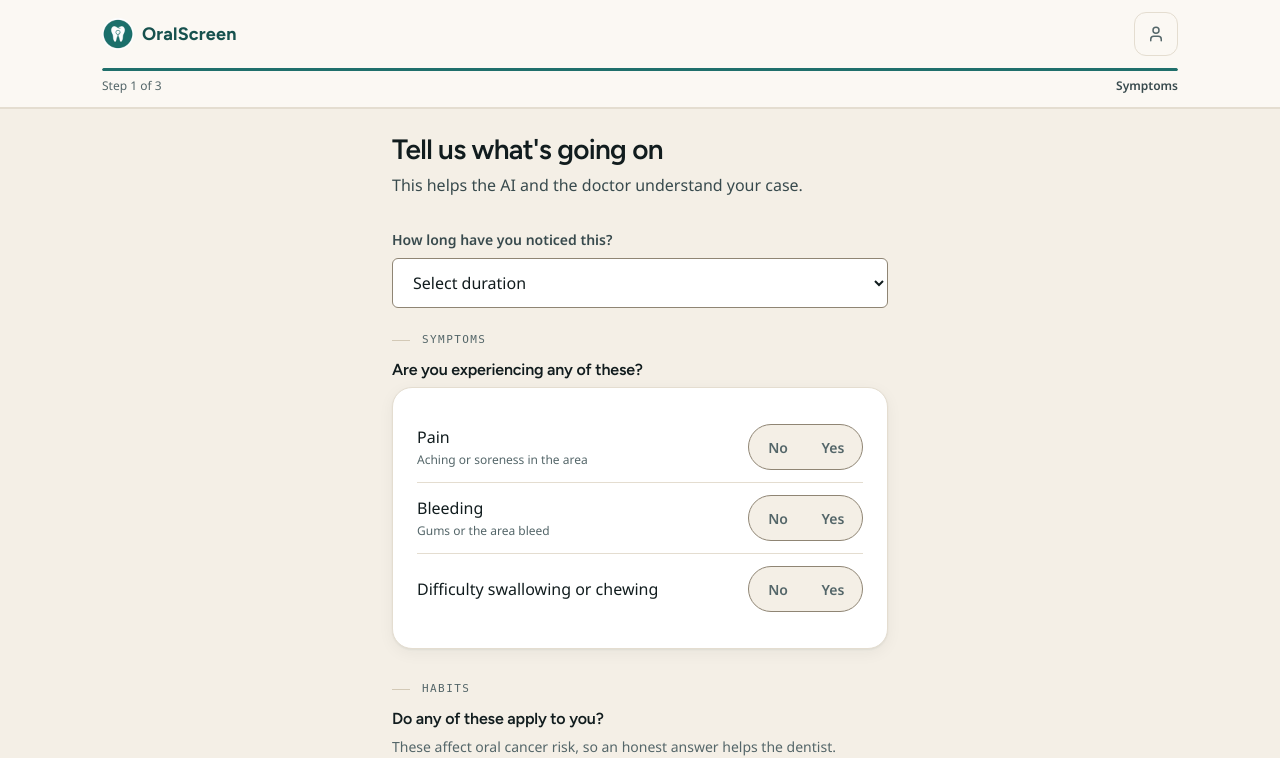
Test: completeness gating › enables submit and drops the requirement note once complete
Step 1. Select "3–5 days" in the dropdown labelled "How long have you noticed this?" → (640, 283), box [392,258,888,308]
Step 2. Click the button "No" in the row of "Aching or soreness in the area" → (778, 447), box [752,428,804,466]
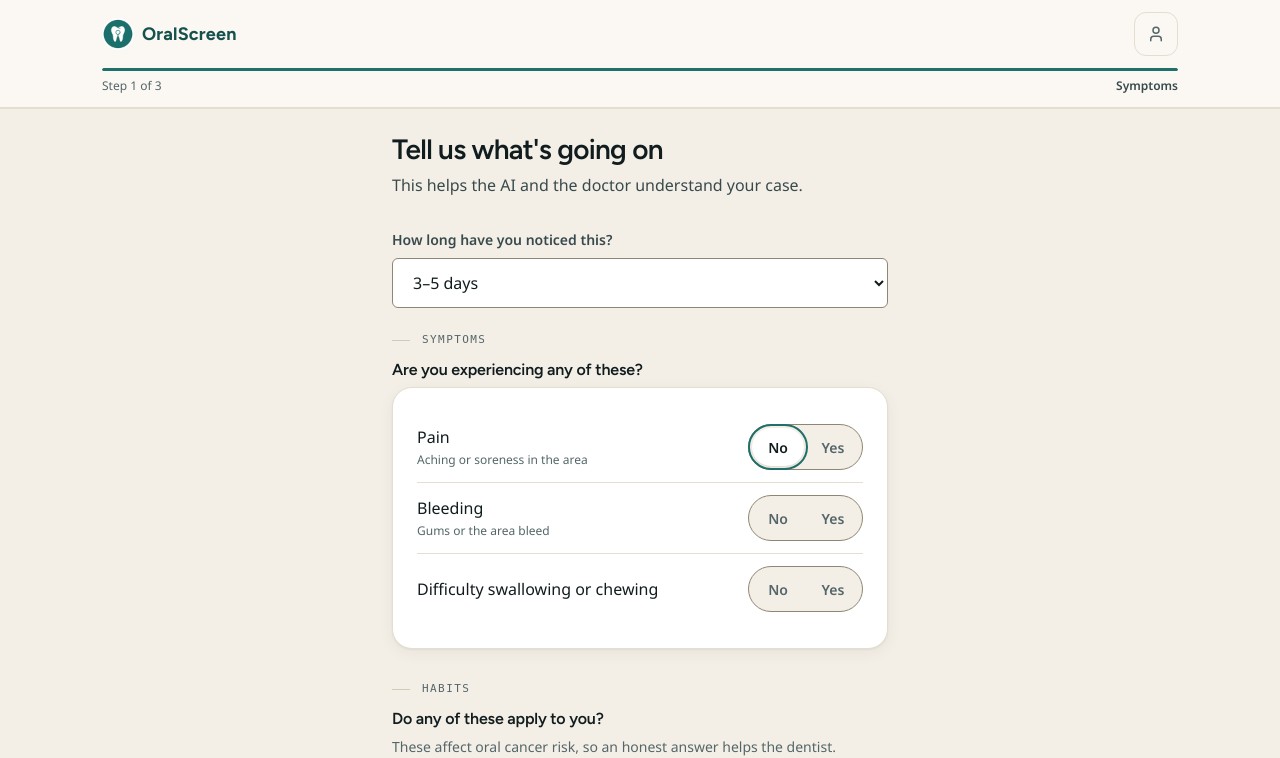
Step 3. Click the button "No" in the row of "Gums or the area bleed" → (778, 518), box [752,499,804,537]
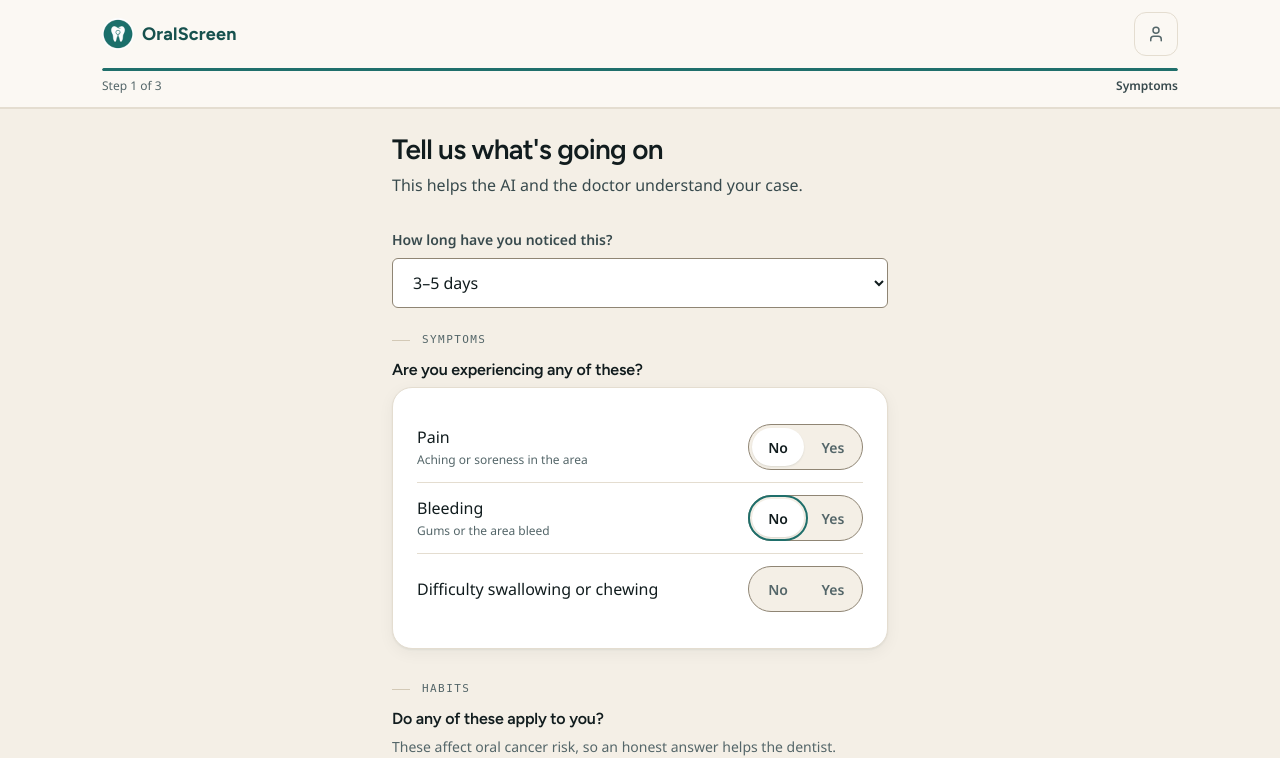
Step 4. Click the button "No" next to "Difficulty swallowing or chewing" → (778, 589), box [752,570,804,608]
(page scrolled)
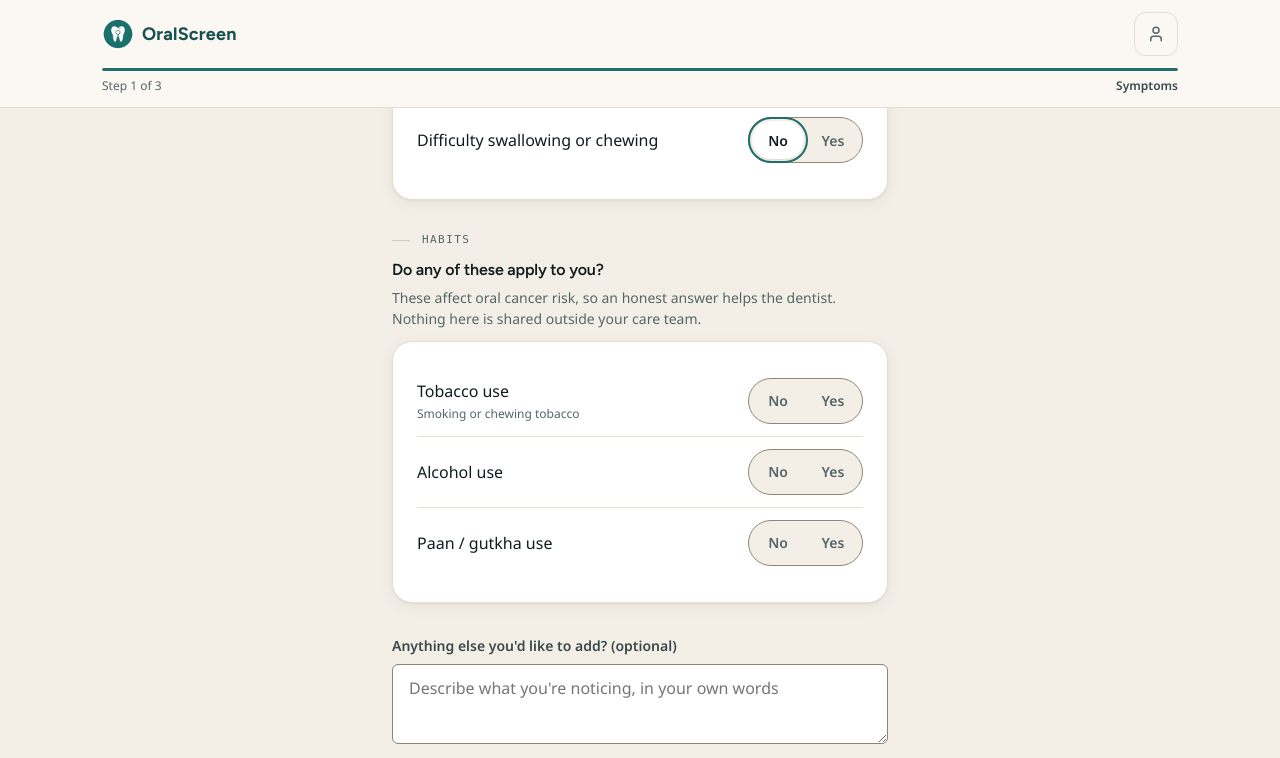
Step 5. Click the button "No" in the row of "Smoking or chewing tobacco" → (778, 401), box [752,382,804,420]
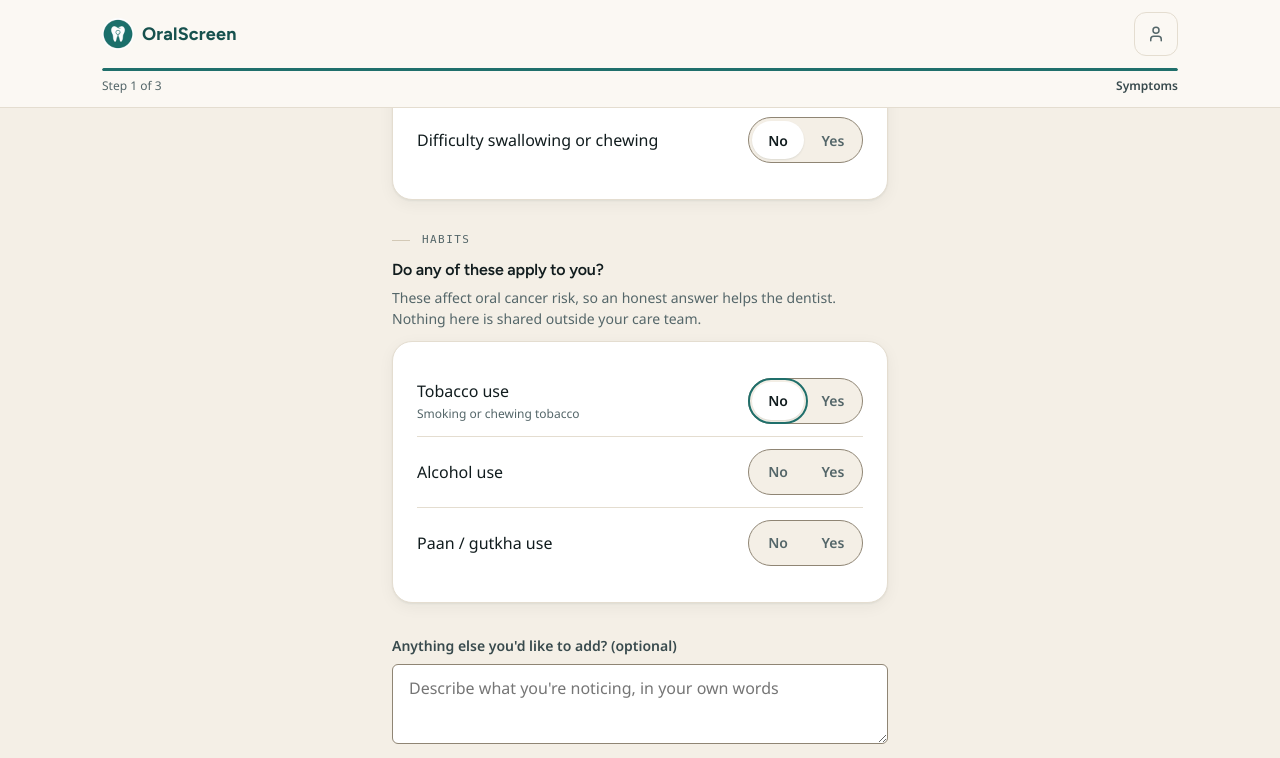
Step 6. Click the button "No" in the row of "Alcohol use" → (778, 472), box [752,453,804,491]
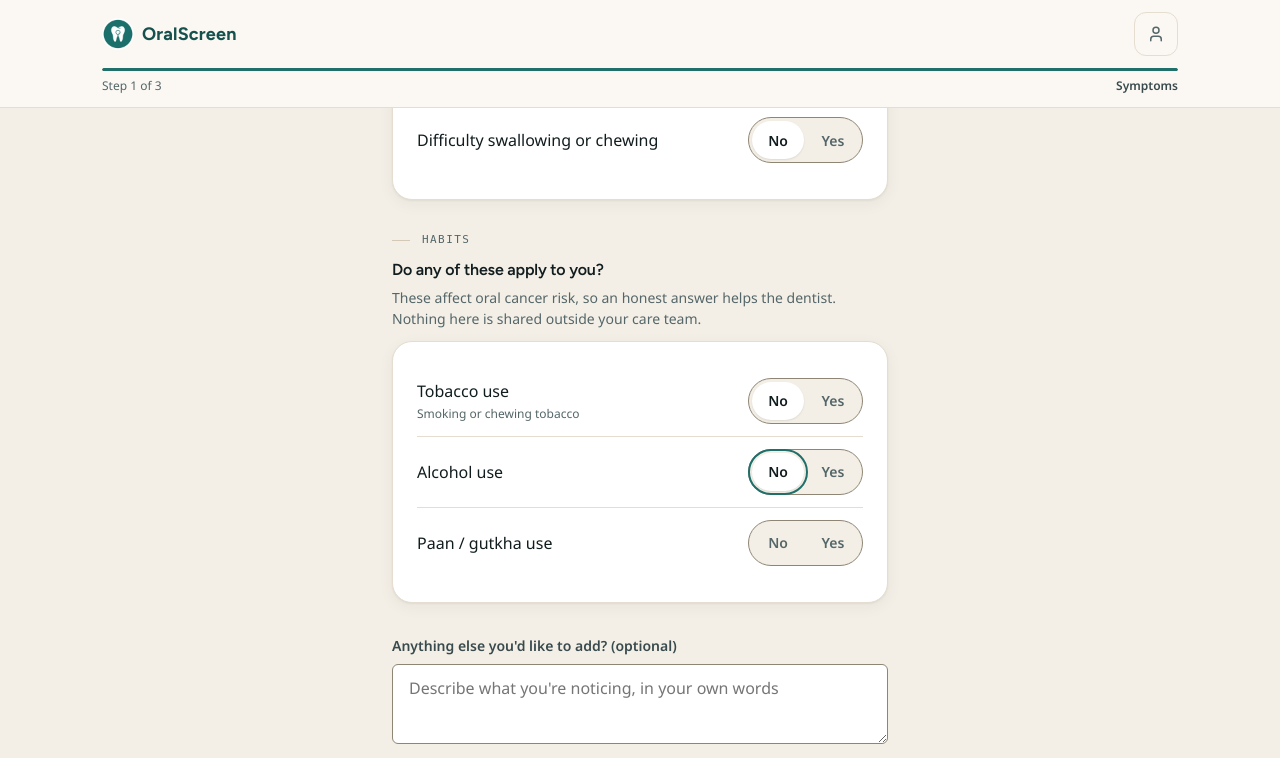
Step 7. Click the button "No" in the row of "Paan / gutkha use" → (778, 543), box [752,524,804,562]
(page scrolled)
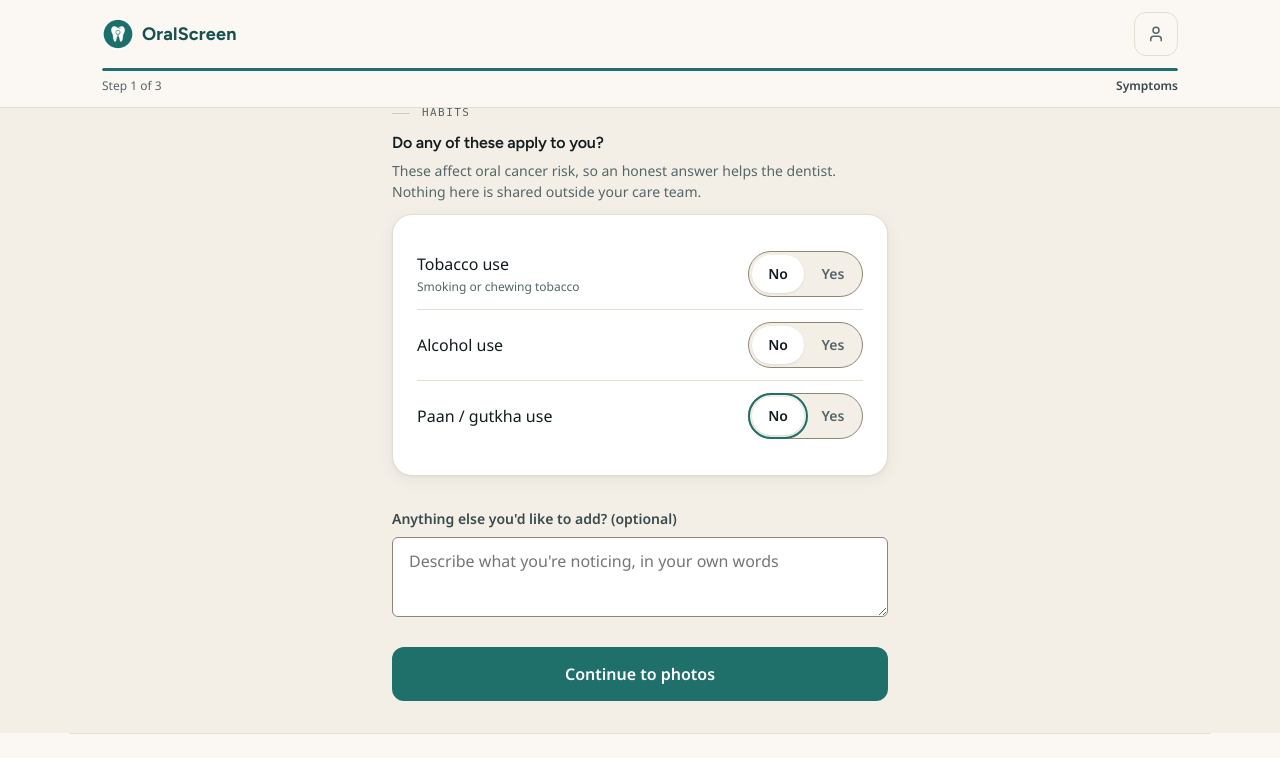
Check: the button "Continue to photos" is enabled, box [392,647,888,701]
